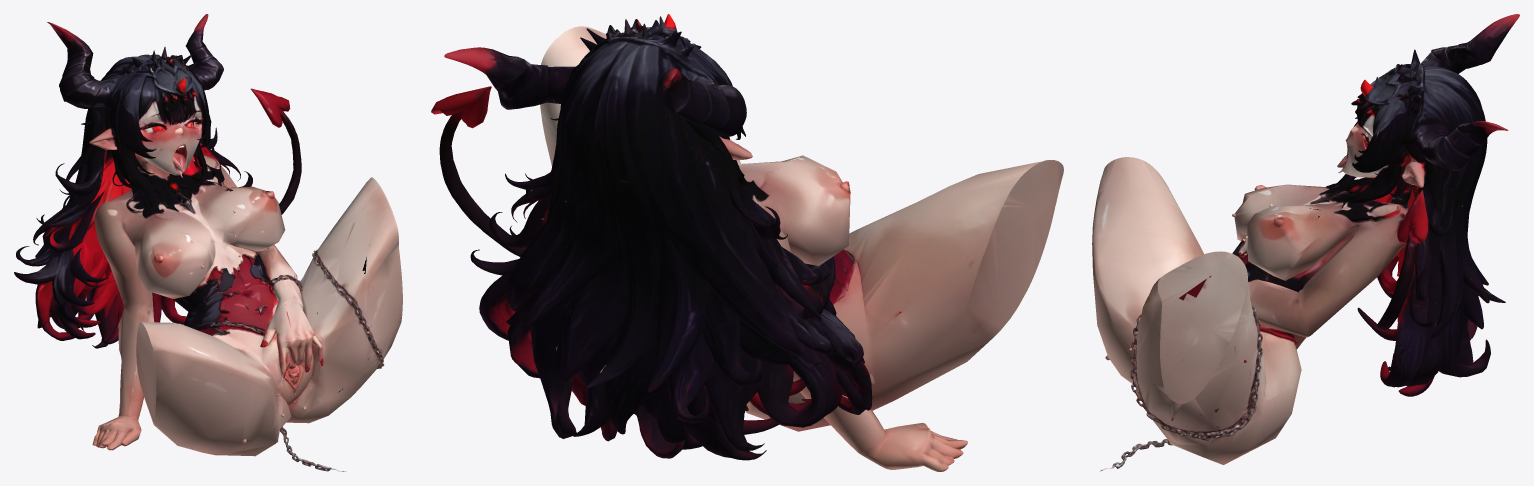
The picture shows the model from 3 angles, left to right: view 1: azimuth 30°, elevation 25°; view 2: azimuth 150°, elevation 25°; view 3: azimuth 270°, elevation 25°; orthographic projection. The views are drawn at different scales.
Parts seen in each view (by area): view 1: model; view 2: model; view 3: model.
Boxes of the visible parts, bbox=[...] form: model: bbox=[14, 14, 402, 471]; model: bbox=[431, 14, 1063, 471]; model: bbox=[1092, 14, 1519, 471].
Size of the model in its own units: 1.64 by 1.9 by 1.86.
1 material, 1 textured.
